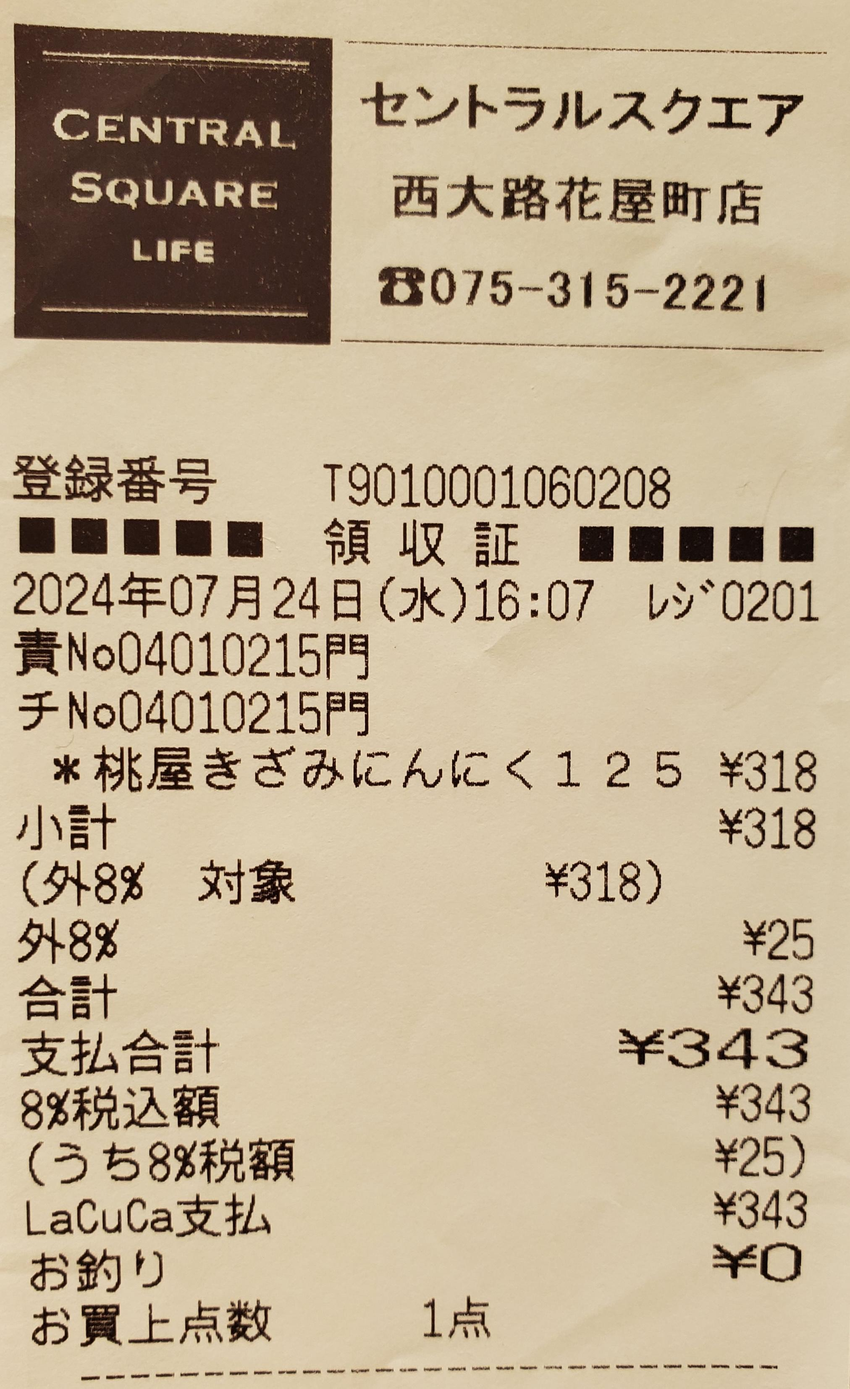TEL: (424, 256, 788, 314)
date: (4, 569, 367, 618)
total: (664, 1021, 811, 1078)
